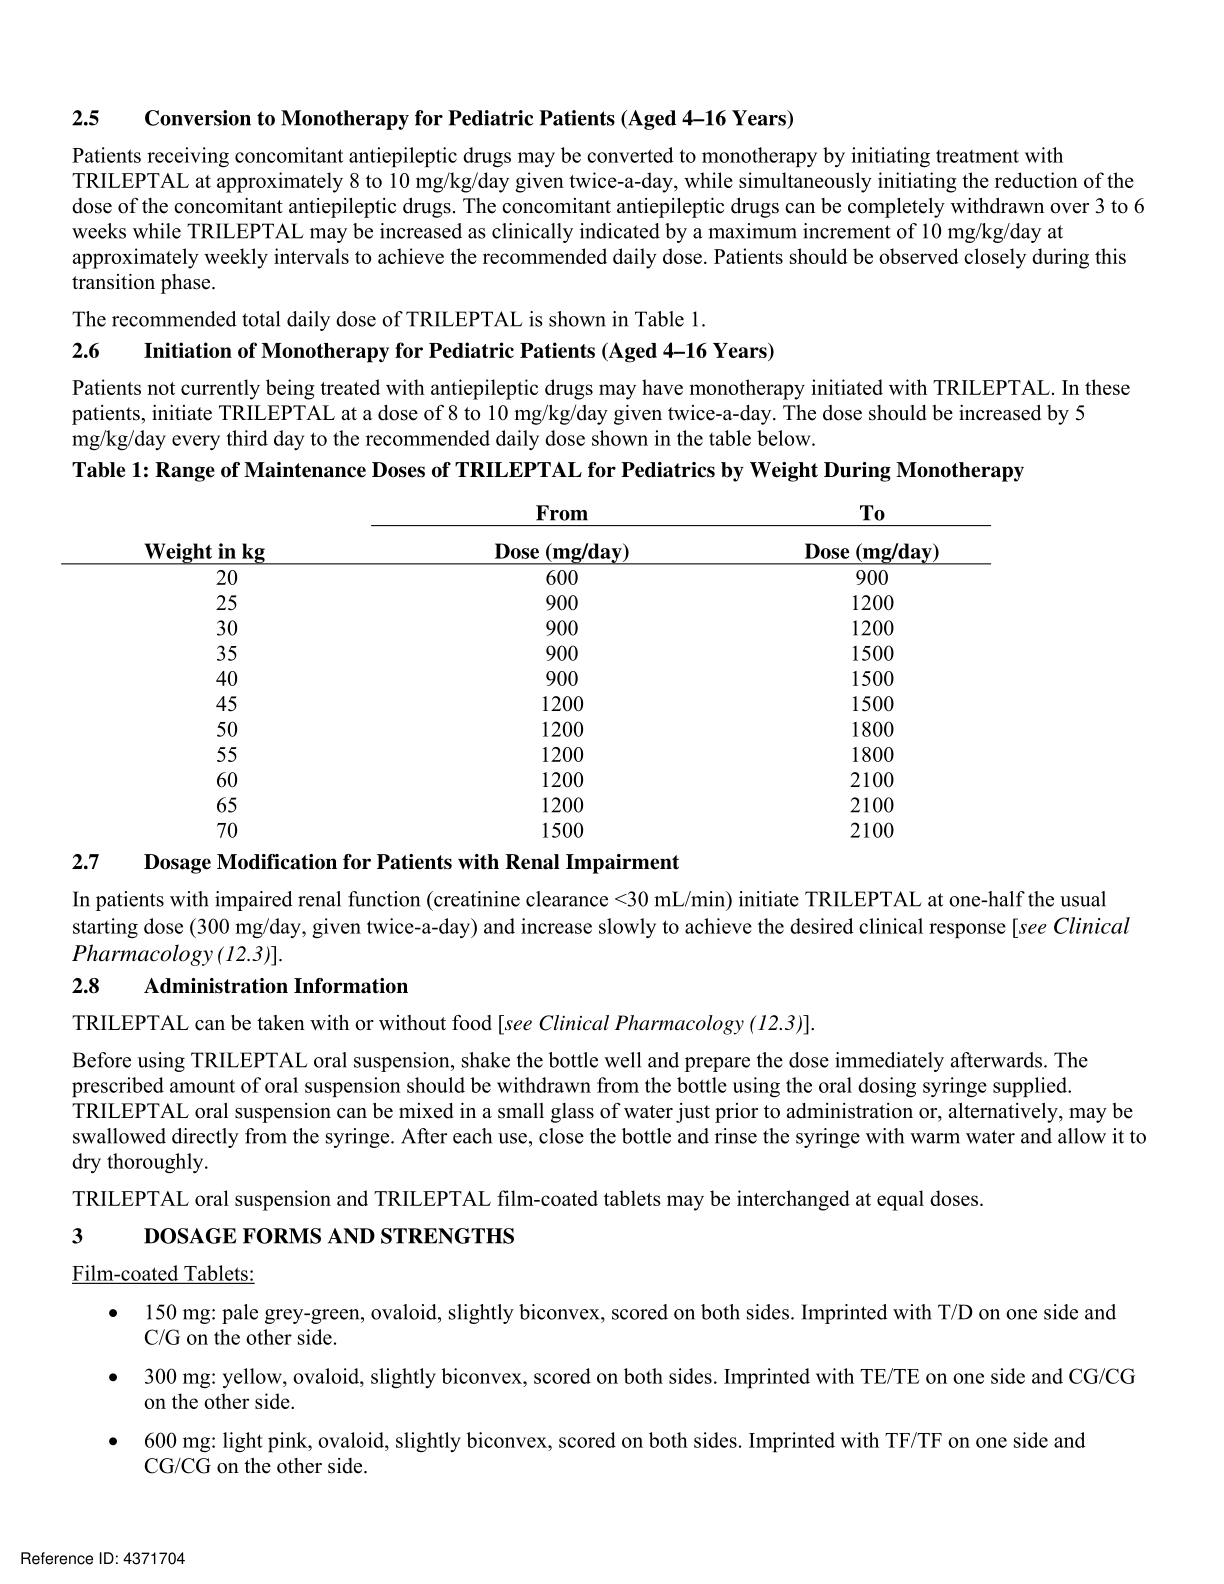partial_lined: (62, 500, 991, 843)
